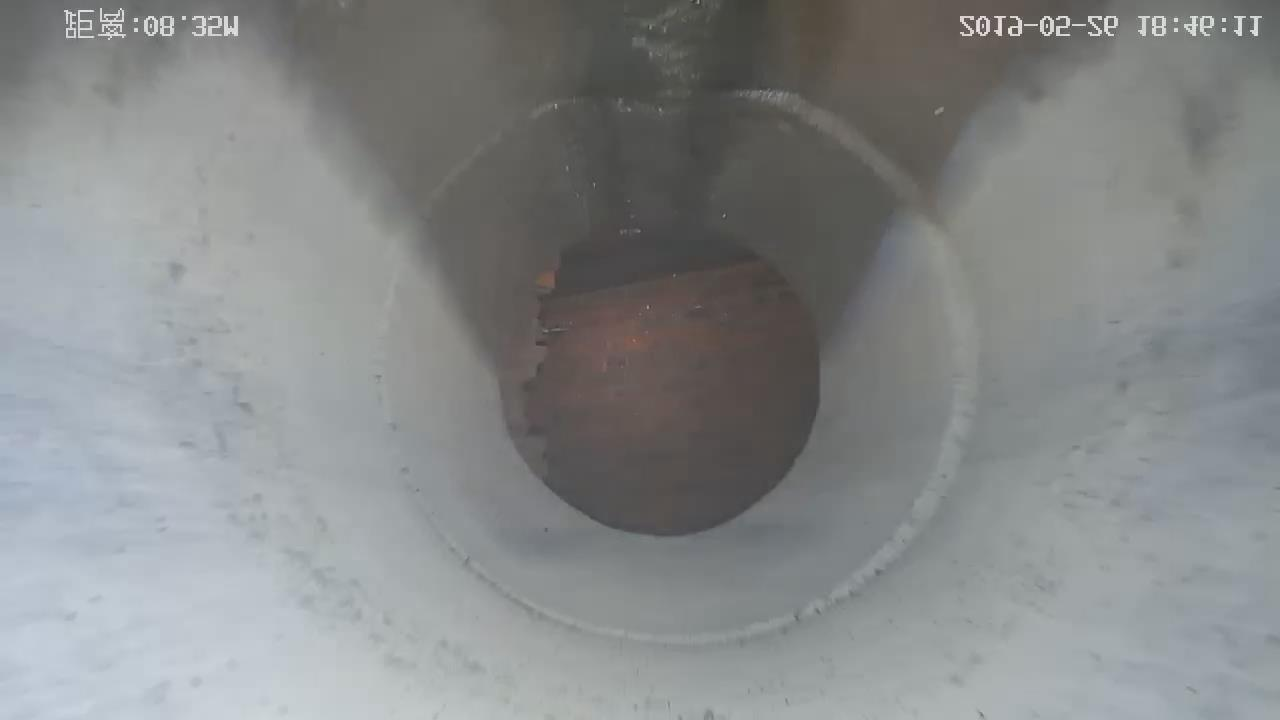CKTJ: (370, 83, 982, 647)
CQBG: (520, 248, 819, 536)
